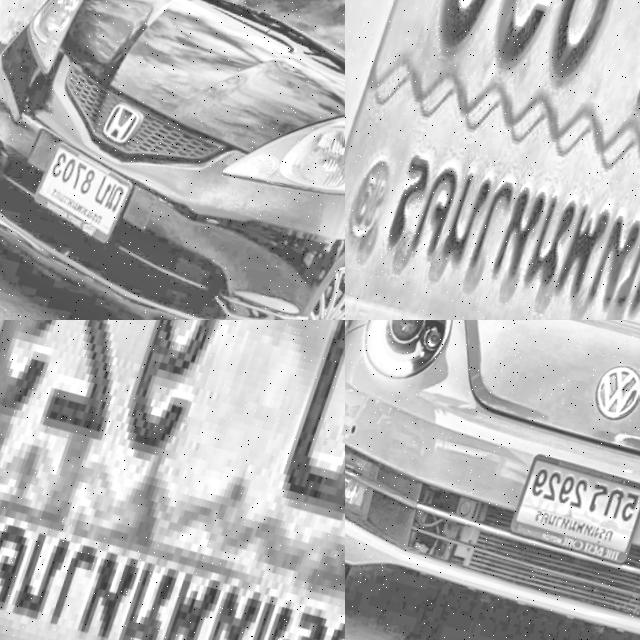license-plate: (0, 320, 345, 640), (345, 0, 640, 320), (512, 450, 640, 562), (26, 134, 151, 246)
